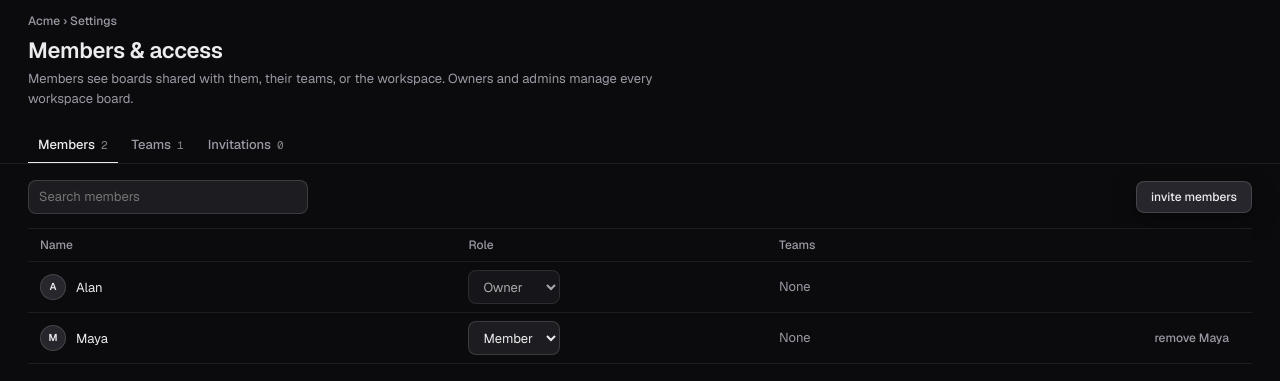
Test: members and access › filters members by name
Type "may" into the search field labelled "Search members" at (168, 197), box [28,180,308,214]
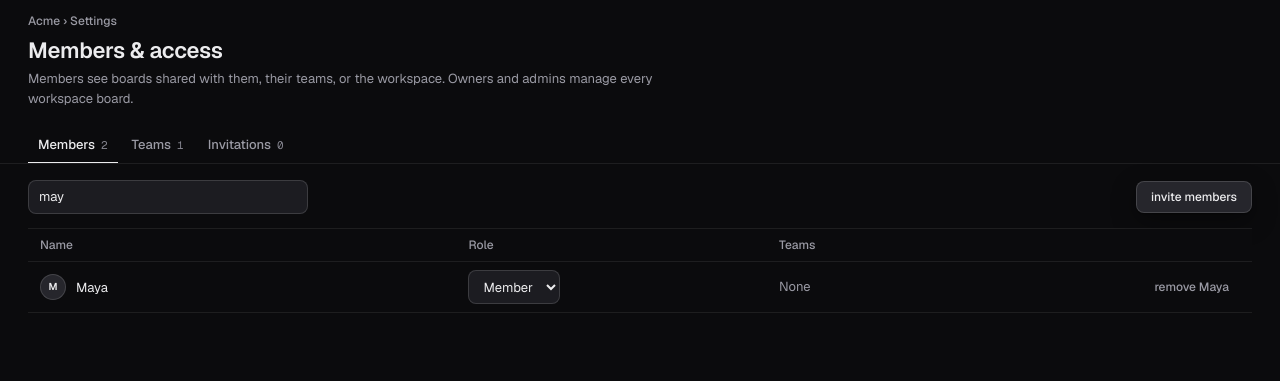
Expected: the row "M Maya None remove Maya" is shown, [28,262,1252,313]
Expected: the text "Alan" is gone
